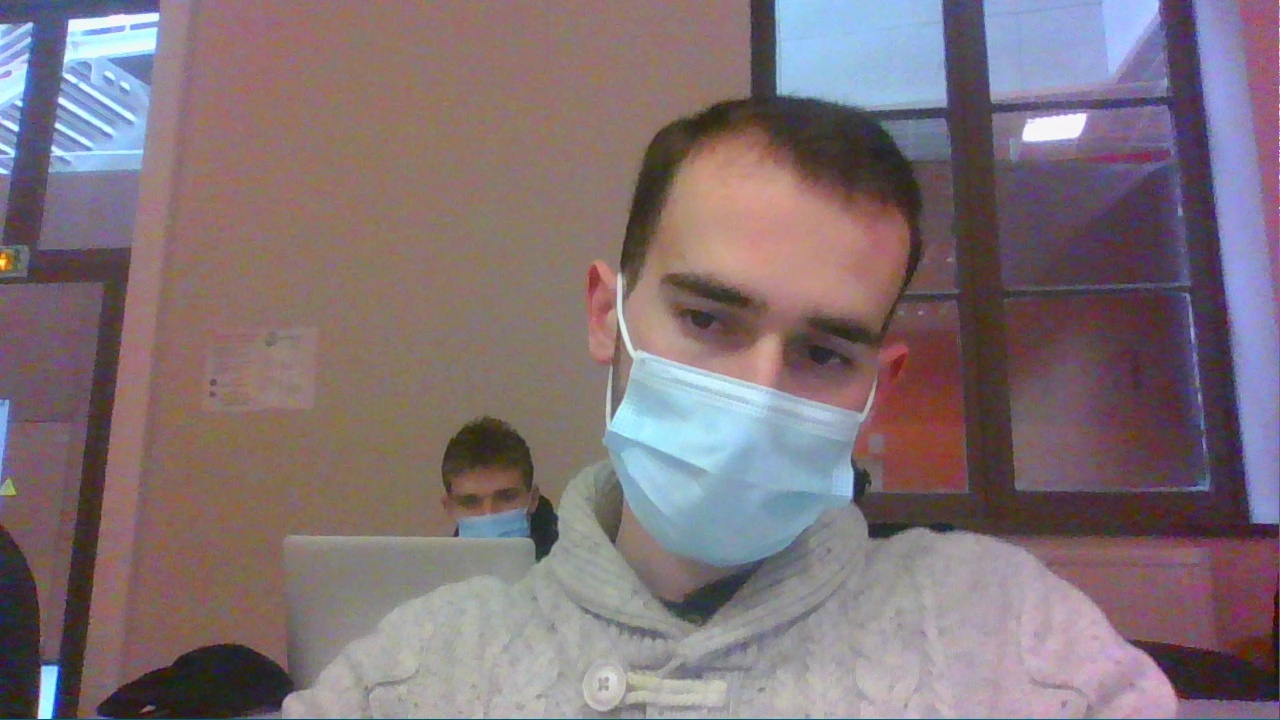mask: (582, 93, 914, 570), (441, 414, 534, 536)
